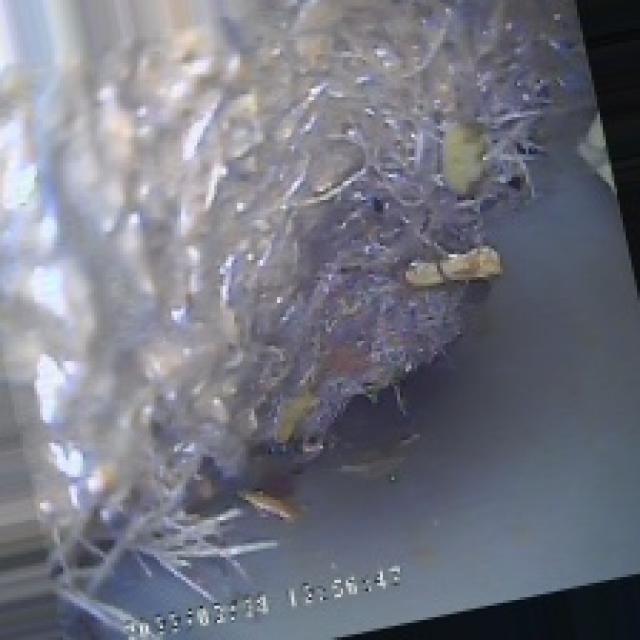sluge accumulation: (63, 11, 574, 548)
